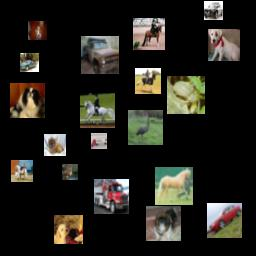automobile: (207, 203, 242, 238), (204, 1, 223, 20), (20, 53, 39, 72)
bird: (128, 110, 163, 145)
deer: (62, 164, 78, 180)
dog: (10, 83, 45, 118), (146, 206, 181, 241), (208, 29, 240, 61), (54, 215, 83, 244), (44, 134, 66, 156), (28, 21, 47, 40)
frog: (167, 76, 205, 114)
truck: (81, 36, 119, 74), (94, 179, 129, 214), (91, 133, 107, 149)
